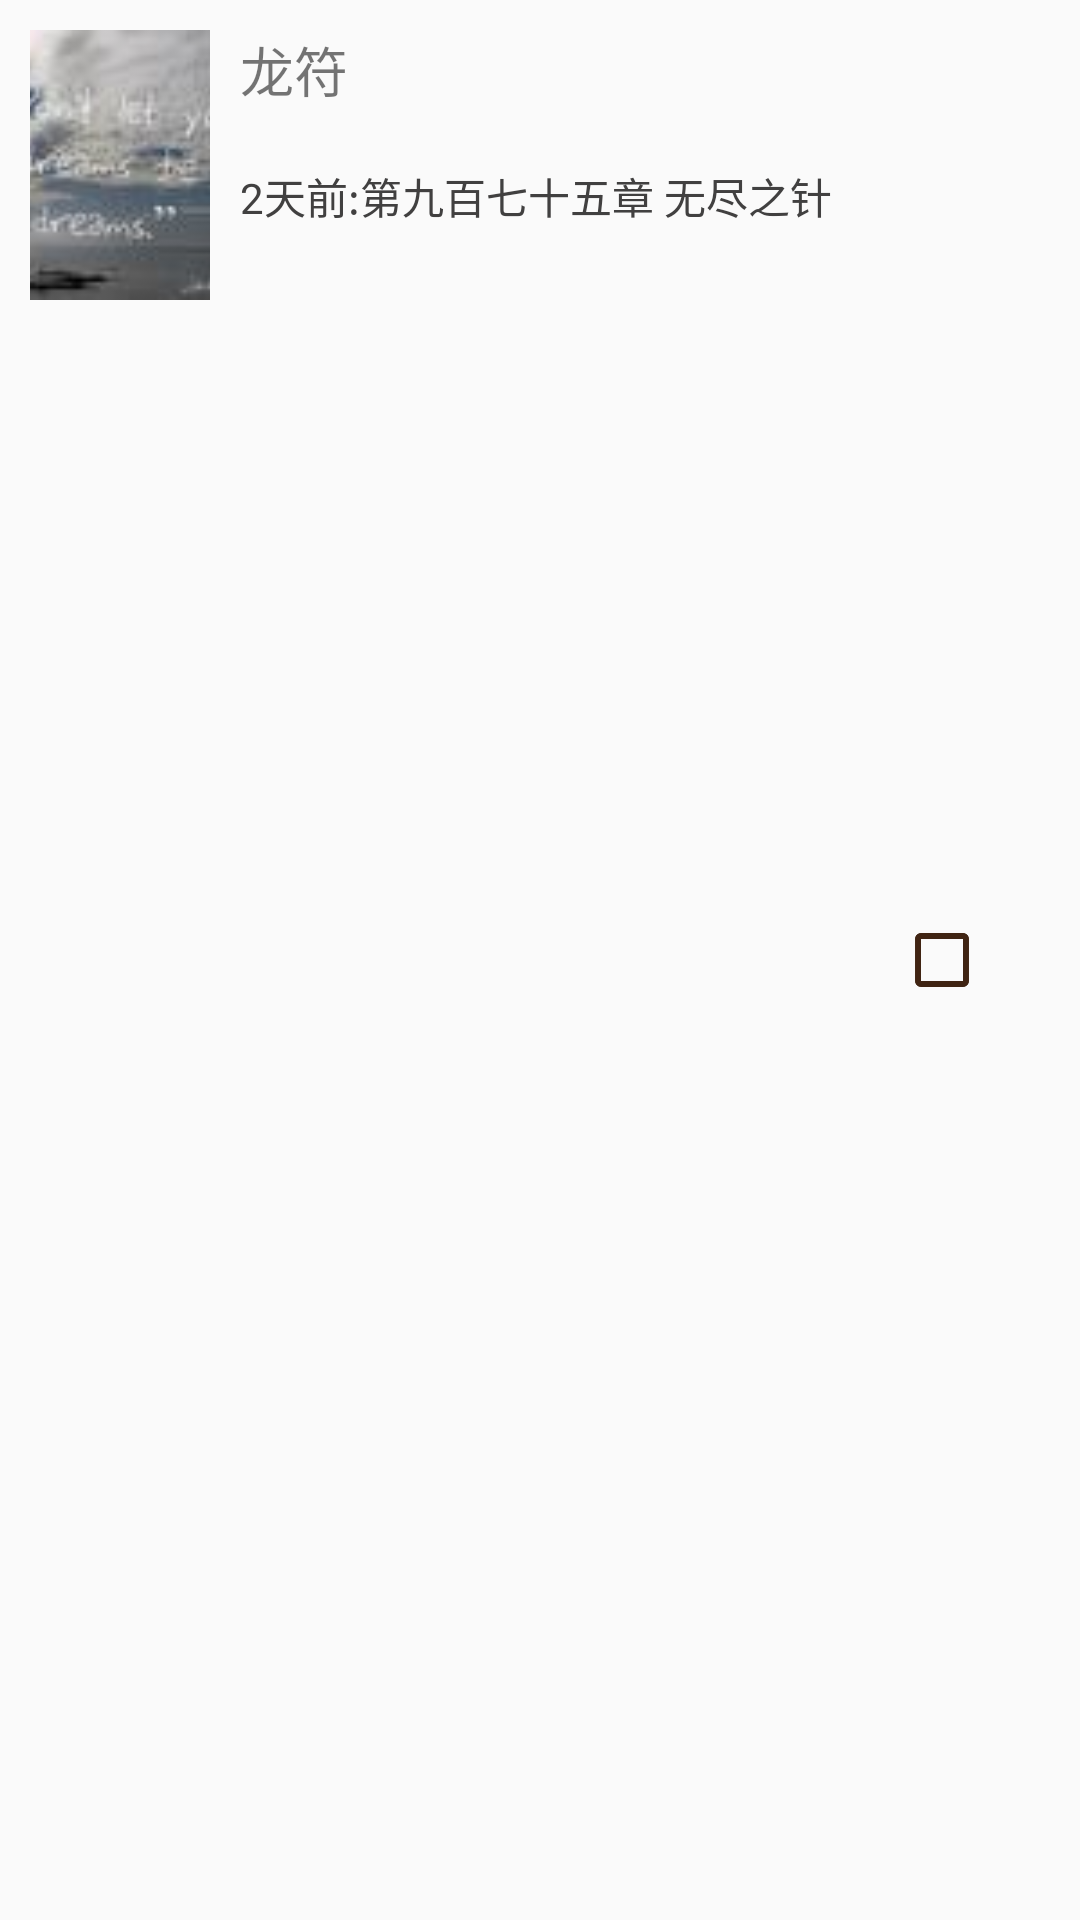

Icons on this 1080×1920 Android screen, each with the point to tap as (x=x, y=y):
book pic: (x=120, y=165)
